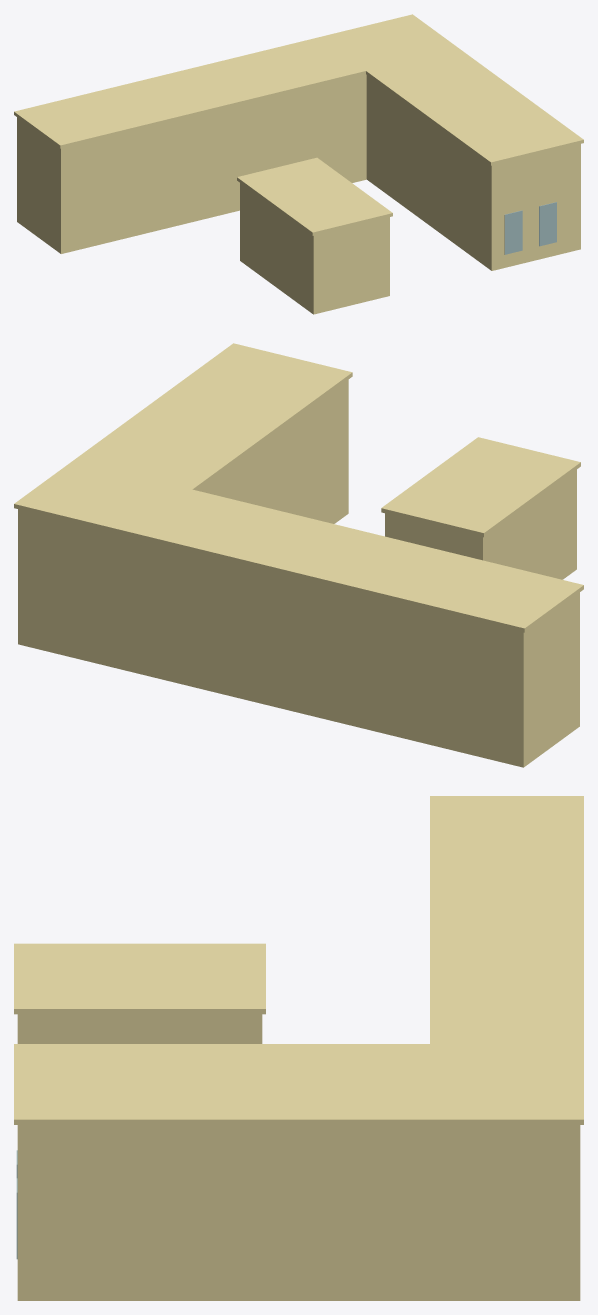
Rendered from modelo.glb.
The picture shows the model from 3 angles, top to bottom: view 1: azimuth 30°, elevation 25°; view 2: azimuth 150°, elevation 25°; view 3: azimuth 270°, elevation 25°; orthographic projection. The views are drawn at different scales.
Parts seen in each view (by area): view 1: barra_posterior, ala_lateral, barra_posterior_cornisa, ala_lateral_cornisa, ala_corta, ala_corta_cornisa, vano_referencial (×2); view 2: barra_posterior, barra_posterior_cornisa, ala_lateral_cornisa, ala_lateral, ala_corta_cornisa, ala_corta; view 3: ala_lateral, barra_posterior_cornisa, ala_lateral_cornisa, barra_posterior, ala_corta_cornisa, ala_corta.
Boxes of the visible parts, box(x1,y1,x2,y2) form: barra_posterior: box(17, 74, 366, 253); ala_lateral: box(366, 75, 580, 270); barra_posterior_cornisa: box(14, 14, 458, 148); ala_lateral_cornisa: box(364, 46, 583, 165); ala_corta: box(240, 183, 389, 314); ala_corta_cornisa: box(237, 157, 392, 235); vano_referencial (×2): box(504, 202, 556, 254); barra_posterior: box(18, 509, 579, 767); barra_posterior_cornisa: box(14, 460, 583, 632); ala_lateral_cornisa: box(73, 343, 352, 490); ala_lateral: box(197, 379, 348, 523); ala_corta_cornisa: box(381, 437, 580, 537); ala_corta: box(385, 469, 576, 579); ala_lateral: box(17, 1125, 433, 1300); barra_posterior_cornisa: box(430, 796, 583, 1124); ala_lateral_cornisa: box(14, 1044, 437, 1124); barra_posterior: box(433, 1125, 580, 1300); ala_corta_cornisa: box(14, 943, 265, 1014); ala_corta: box(17, 1014, 262, 1043).
Size of the model in its own units: 31.3 by 8.25 by 23.3.
